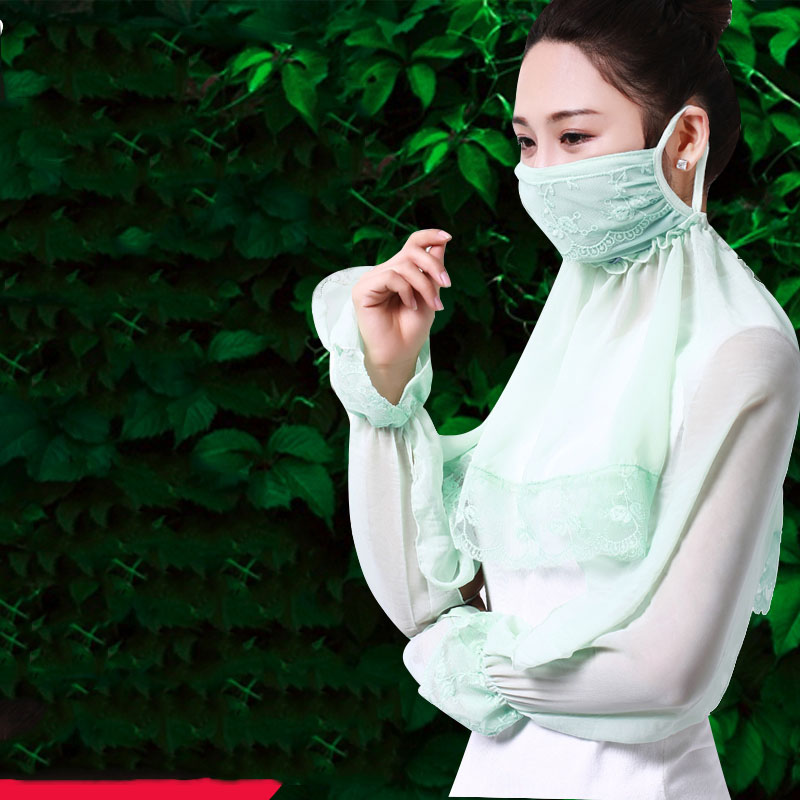face_mask: (510, 42, 665, 262)
